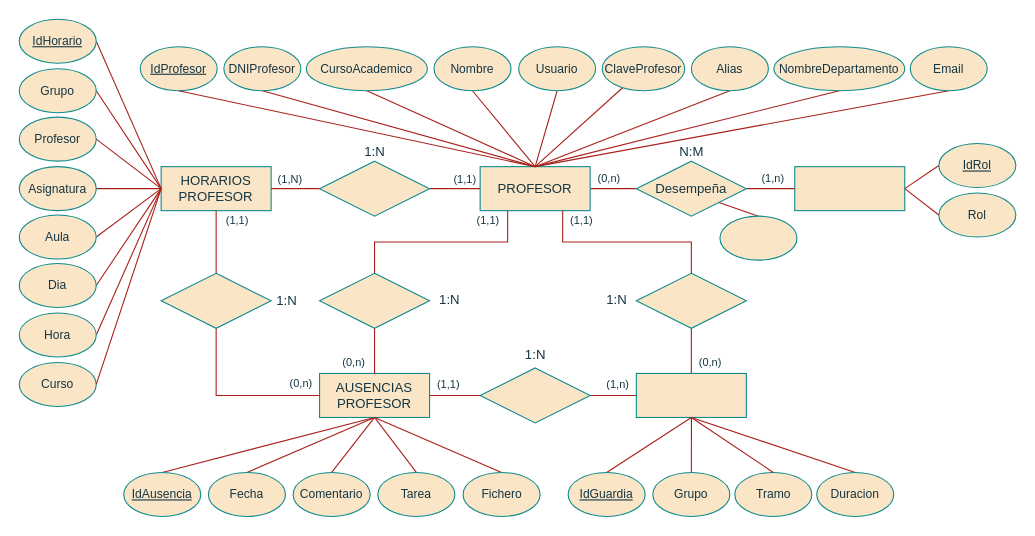
Image size: 1035x536. Some labels were removed from this diagram. Each missing label, with the centre of its shape:
"Causa" goes at (374,300).
"Cubre" goes at (534,395).
"GrupoTutoria" goes at (758,237).
"GUARDIA" goes at (690,394).
"Realiza" goes at (690,300).
"ROLES" goes at (849,188).
"Se produce en" goes at (215,300).
"Tiene" goes at (374,188).
